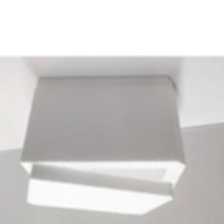foam_box: (14, 71, 191, 218)
